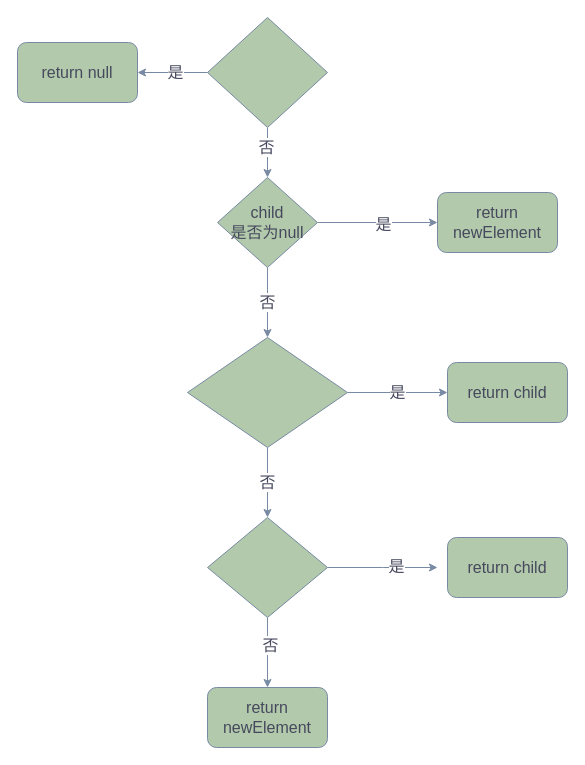
This 585x765 diagram has some shape labels left out. Each missing label, with the box of its shape:
key、runtimeType相等？: (206, 516, 328, 618)
newWidget 是否为null: (206, 16, 328, 128)
oldWidgt、 newWidget是否相等: (186, 336, 348, 448)
